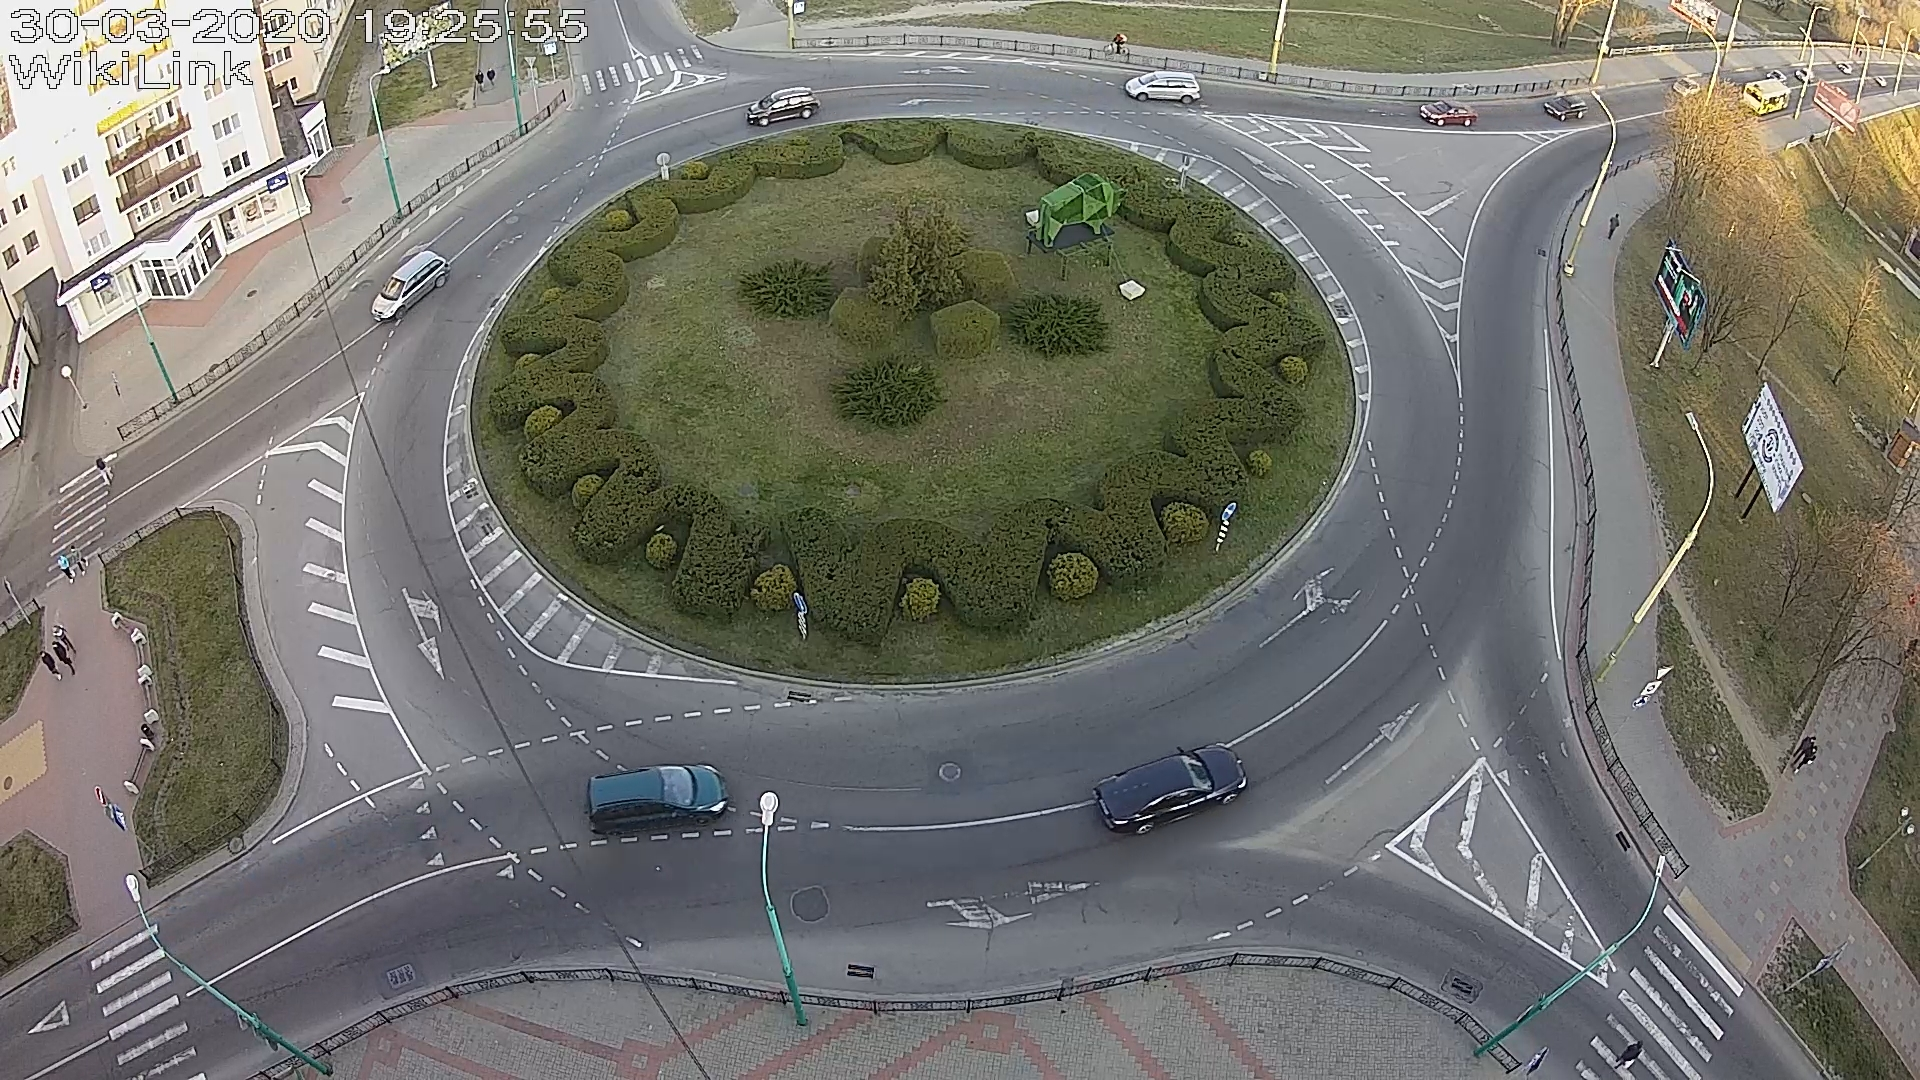car: (1091, 742, 1247, 835), (585, 764, 731, 836), (371, 249, 451, 322), (746, 86, 820, 127), (1124, 71, 1201, 104), (1419, 99, 1480, 127), (1543, 94, 1589, 123)
